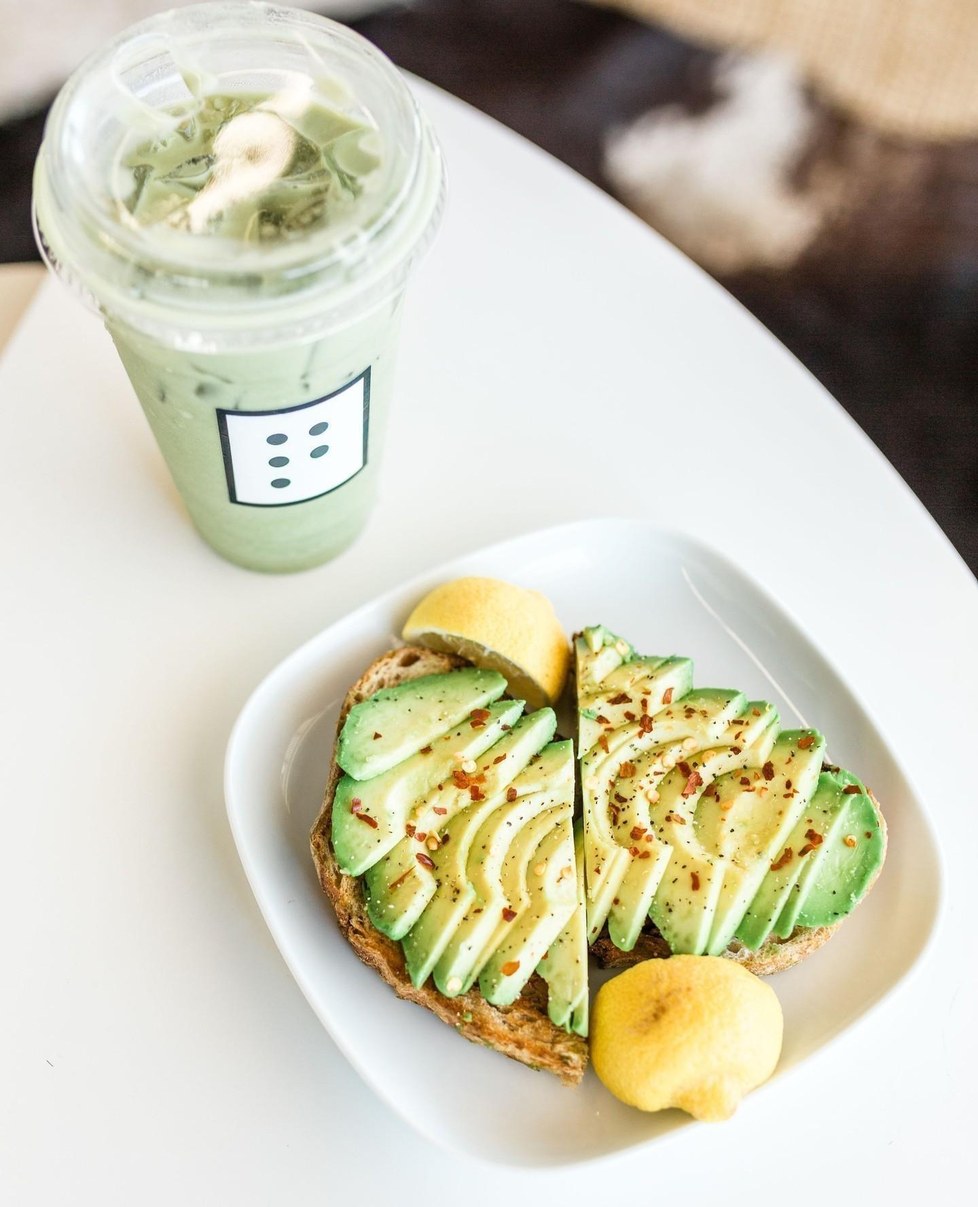cup-disposable: (29, 3, 454, 587)
